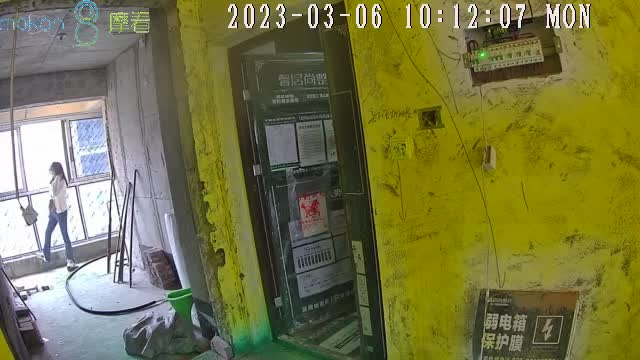people: (36, 162, 76, 270)
window: (1, 114, 118, 267)
